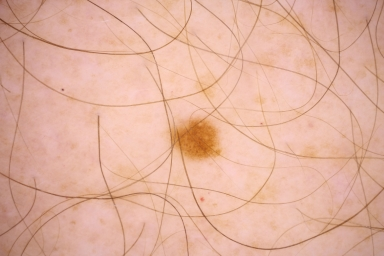melanoma: (174, 118, 224, 158)
